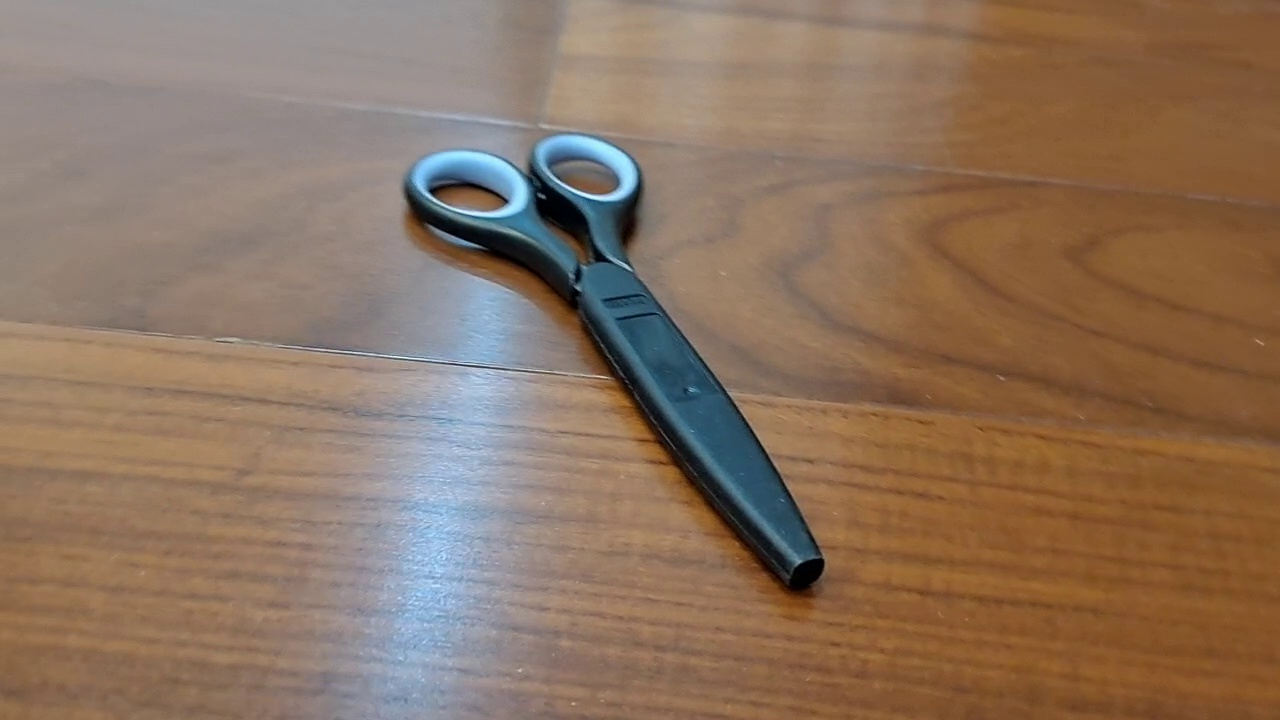scissors: (401, 131, 827, 594)
